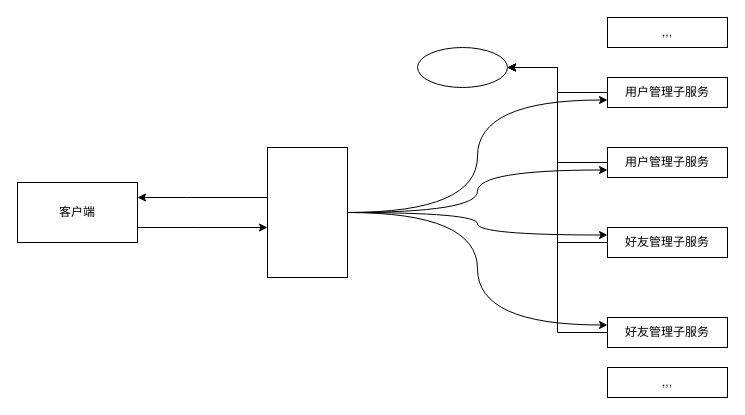
Some shapes in this 745 by 415 pixel diagram are drawn without their labels. Each missing label, with the box of its shape:
注册中心: (416, 46, 508, 88)
网关: (266, 146, 348, 278)
